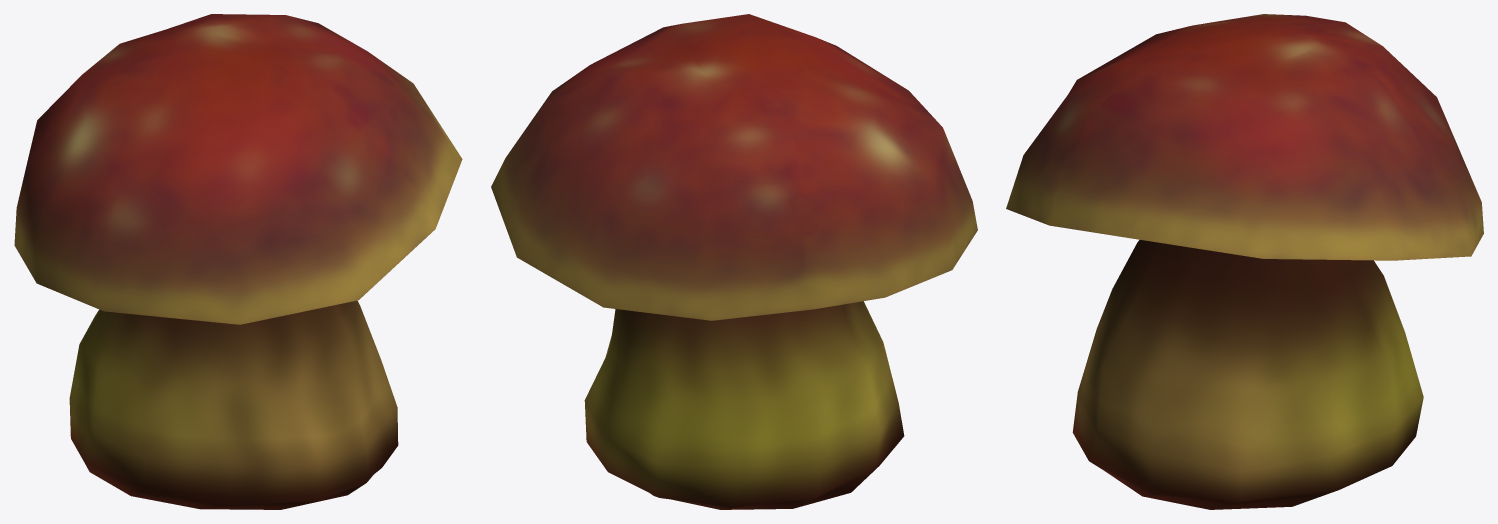
Rendered from PennyBunThick.fbx.
3 renders of one model, left to right at view 1: azimuth 30°, elevation 25°; view 2: azimuth 150°, elevation 25°; view 3: azimuth 270°, elevation 25°, orthographic. The views are drawn at different scales.
Visible parts, largest first — view 1: PennyBunLP.002; view 2: PennyBunLP.002; view 3: PennyBunLP.002.
Part boxes in pixels (box(x1,y1,x2,y2)): PennyBunLP.002: box(14, 14, 462, 509); PennyBunLP.002: box(491, 14, 977, 509); PennyBunLP.002: box(1006, 14, 1483, 509).
Bounding box in the file's own units: 78.42 × 84.02 × 83.5.
